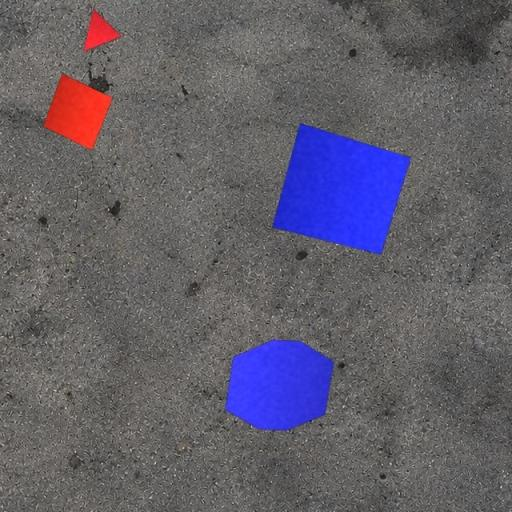BLUE_SQUARE: (271, 122, 411, 256)
RED_SQUARE: (42, 73, 114, 151)
